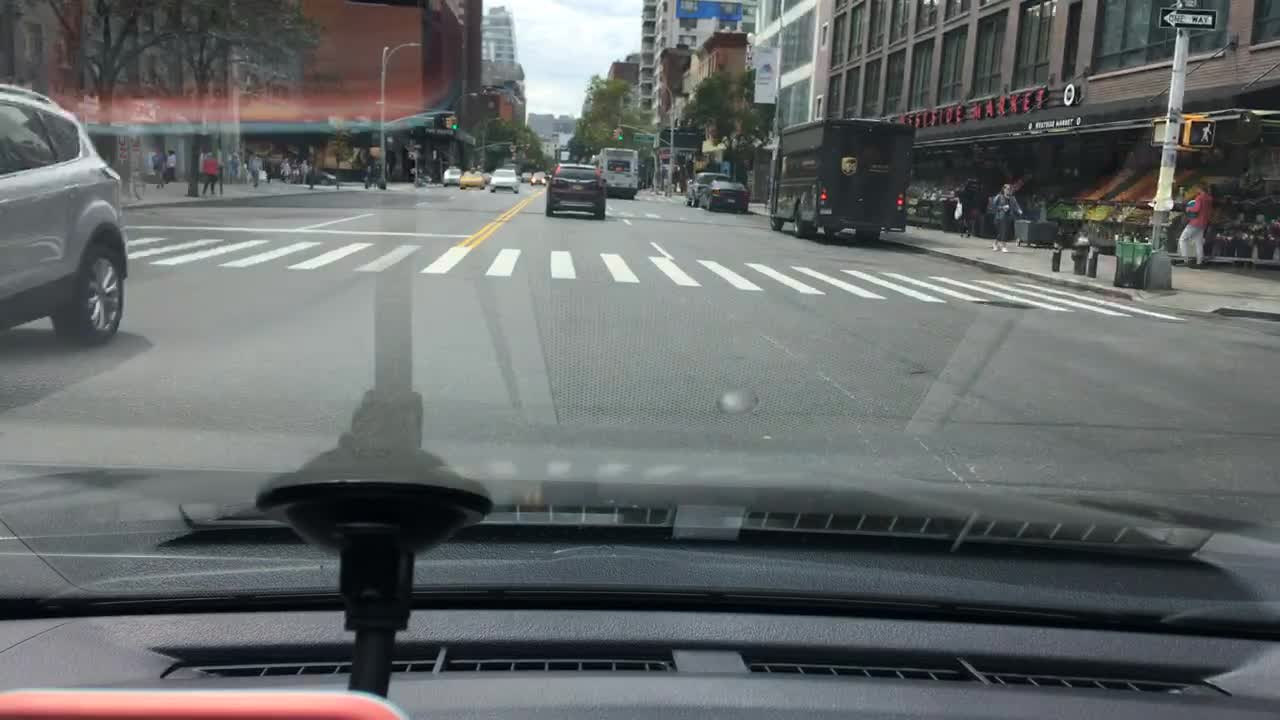bus: (766, 116, 918, 243), (591, 147, 637, 200)
car: (0, 82, 127, 348), (545, 160, 607, 218), (702, 176, 751, 213), (683, 170, 725, 208), (292, 165, 336, 185), (488, 168, 520, 194), (460, 167, 487, 190), (443, 164, 460, 186), (532, 171, 548, 186), (520, 170, 531, 183), (481, 171, 490, 184)
person: (1179, 179, 1211, 266), (990, 180, 1024, 250), (953, 178, 970, 236), (203, 151, 220, 196), (153, 145, 165, 187), (250, 152, 263, 187), (679, 163, 690, 196), (166, 147, 176, 183), (280, 156, 290, 181), (299, 158, 307, 183), (291, 157, 298, 180), (672, 165, 678, 191)
traffic light: (1180, 118, 1213, 147), (1151, 116, 1164, 143), (368, 147, 383, 157), (616, 127, 623, 141), (451, 114, 456, 130), (445, 115, 450, 127), (613, 127, 615, 138)
traffic sign: (1159, 5, 1217, 32), (632, 134, 655, 142)
